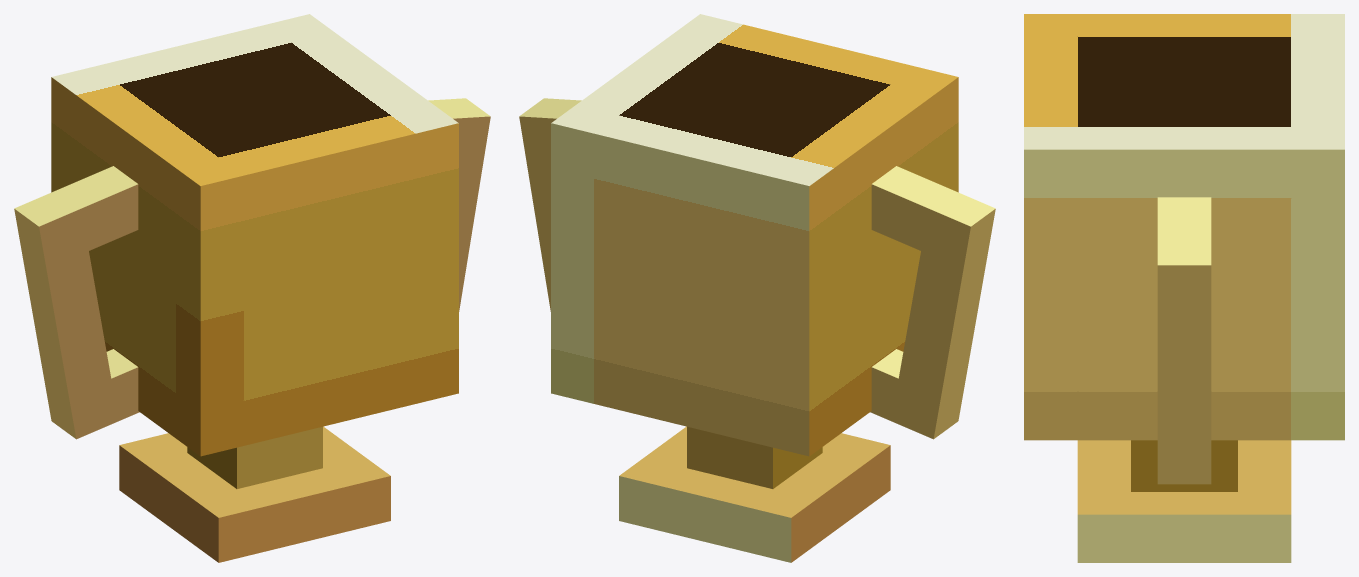
The model's file is lowpoly_trophy.glb.
3 renders of one model, left to right at view 1: azimuth 30°, elevation 25°; view 2: azimuth 150°, elevation 25°; view 3: azimuth 270°, elevation 25°, orthographic. The views are drawn at different scales.
Visible parts, largest first — view 1: cube_1, cube_2, cube_3, cube_0, cube_4, cube_7, cube_5; view 2: cube_1, cube_2, cube_3, cube_0, cube_4, cube_7, cube_5; view 3: cube_1, cube_2, cube_7, cube_0, cube_8.
Boxes of the visible parts, x1=… form: cube_1: x1=51, y1=14, x2=458, y2=456; cube_2: x1=119, y1=426, x2=390, y2=562; cube_3: x1=14, y1=190, x2=118, y2=439; cube_0: x1=187, y1=426, x2=322, y2=488; cube_4: x1=57, y1=166, x2=138, y2=250; cube_7: x1=428, y1=98, x2=490, y2=311; cube_5: x1=106, y1=349, x2=139, y2=420; cube_1: x1=551, y1=14, x2=958, y2=456; cube_2: x1=619, y1=426, x2=890, y2=562; cube_3: x1=891, y1=190, x2=995, y2=439; cube_0: x1=687, y1=426, x2=822, y2=488; cube_4: x1=871, y1=166, x2=952, y2=250; cube_7: x1=519, y1=98, x2=581, y2=311; cube_5: x1=870, y1=349, x2=903, y2=420; cube_1: x1=1024, y1=14, x2=1344, y2=440; cube_2: x1=1077, y1=440, x2=1291, y2=562; cube_7: x1=1157, y1=234, x2=1211, y2=484; cube_0: x1=1131, y1=440, x2=1237, y2=491; cube_8: x1=1157, y1=197, x2=1211, y2=234.
Bounding box in the file's own units: 0.6559 × 0.5625 × 0.375.
Materials: 1 (1 with a texture image).
